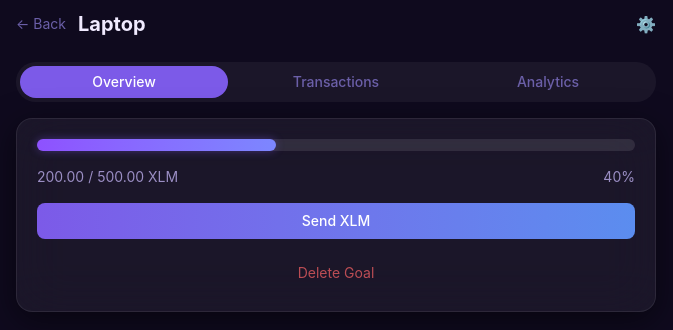
GoalDetailPage › Analytics sekmesine geçince GoalAnalytics render olur
Click the button "Analytics". click: (548, 82)
box: [444,66,652,98]
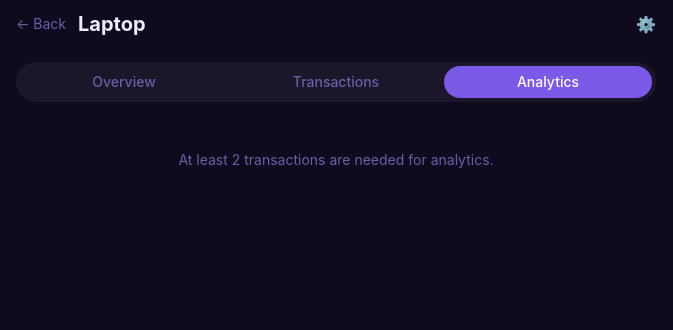
Check: the text "At least 2 transactions are needed for analytics." is shown, box [178,151,494,168]
